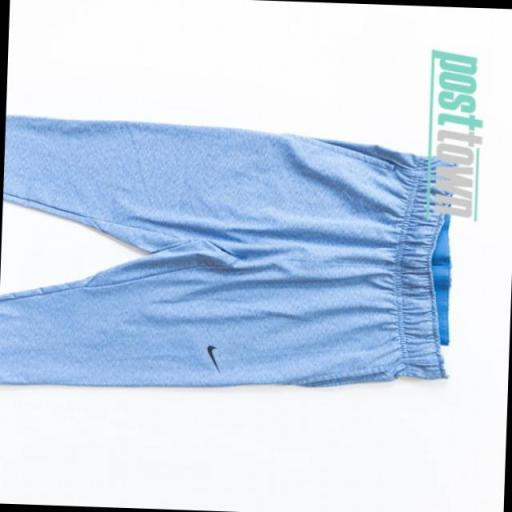Nike: (201, 338, 224, 376)
